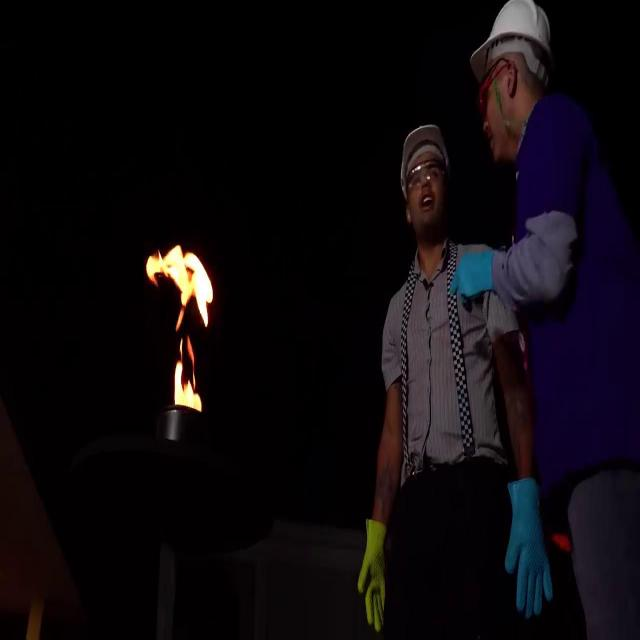fire: (143, 236, 224, 413)
